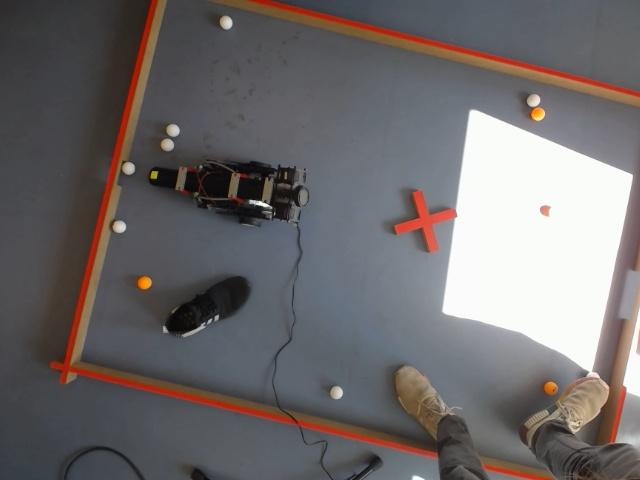orange: (543, 381, 558, 396), (136, 276, 152, 290), (531, 107, 545, 121)
robot: (148, 161, 309, 228)
robot-front: (148, 167, 175, 187)
white: (328, 385, 344, 400), (219, 14, 233, 30), (166, 124, 180, 137), (160, 139, 174, 152), (527, 94, 540, 107), (113, 221, 127, 233), (122, 162, 135, 174)
